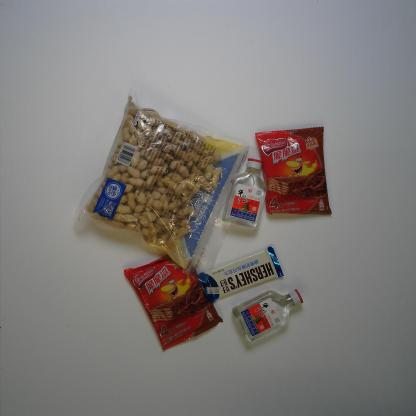Alcohol: (231, 288, 304, 342), (221, 158, 268, 230)
Chocolate: (197, 244, 285, 304)
Dessert: (123, 254, 224, 352), (255, 125, 333, 216)
Dried Food: (72, 87, 256, 285)
